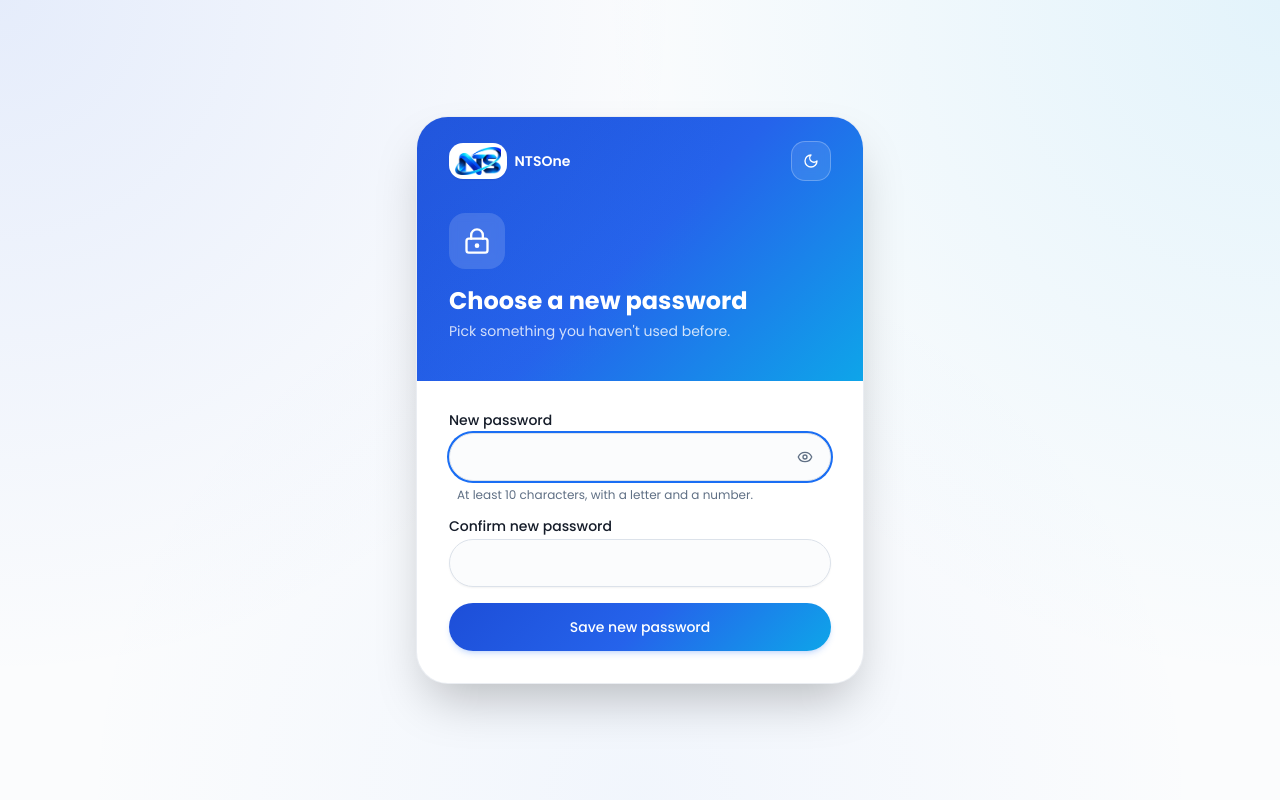
Test: the reset password form › sends a good password and shows the success screen instead of crashing
Type "Sunrise2026x" into the password field labelled "New password".
click(640, 457); type("Sunrise2026x")  # box [449,433,831,481]
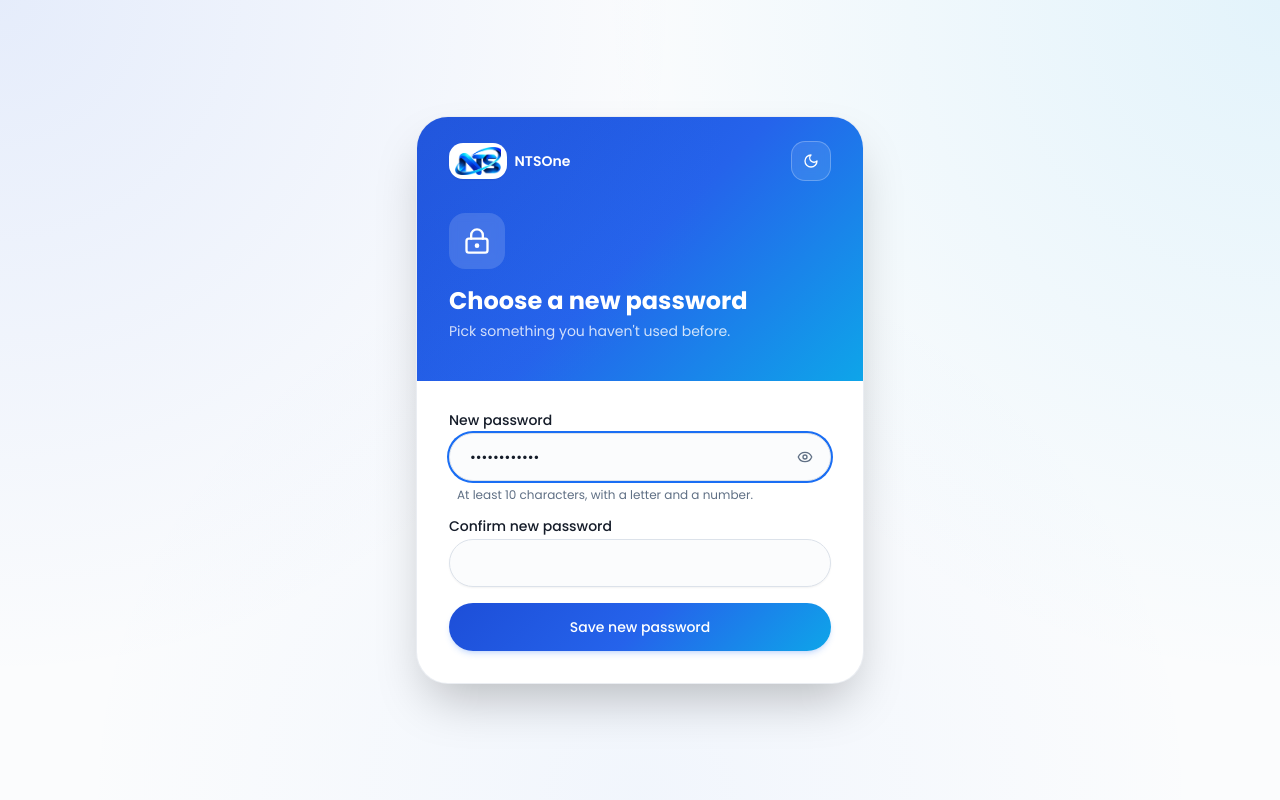
Type "Sunrise2026x" into the password field labelled "Confirm new password".
click(640, 563); type("Sunrise2026x")  # box [449,539,831,587]
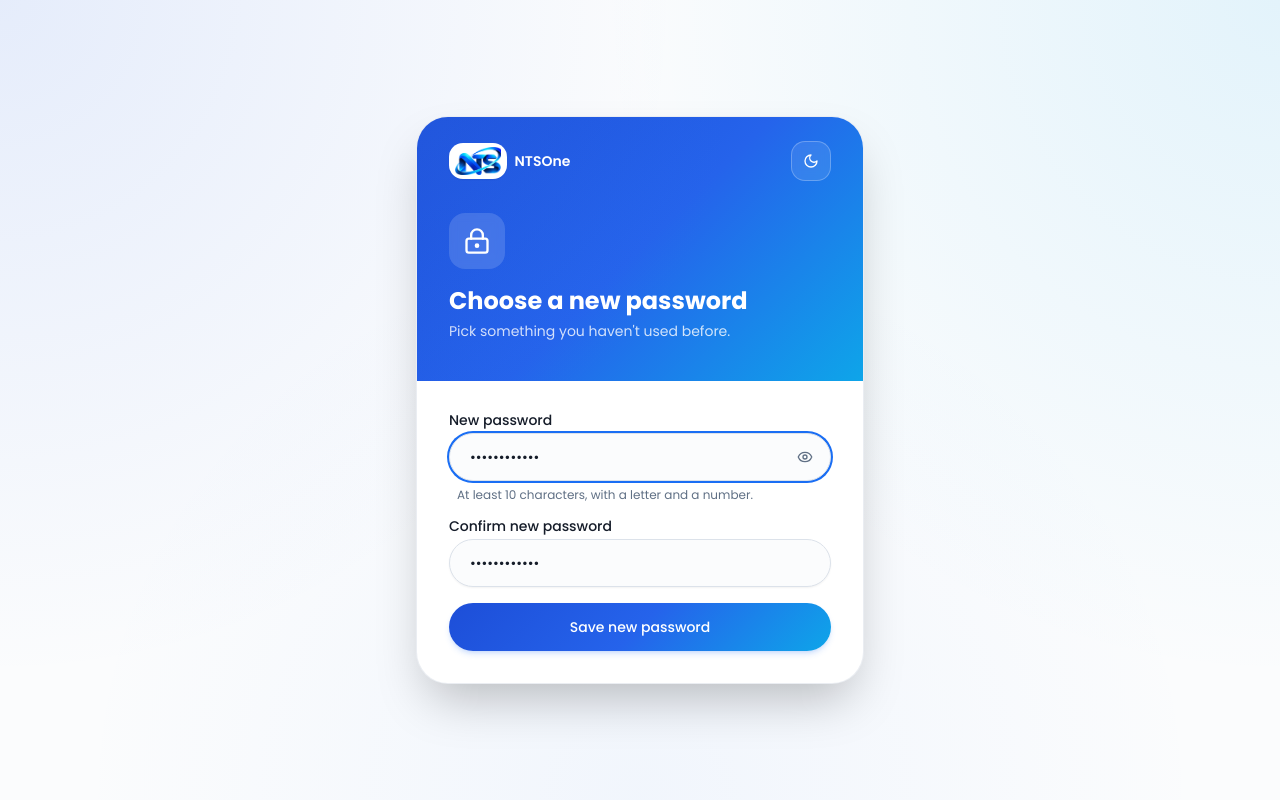
Click the button "Save new password".
click(640, 627)  # box [449,603,831,651]
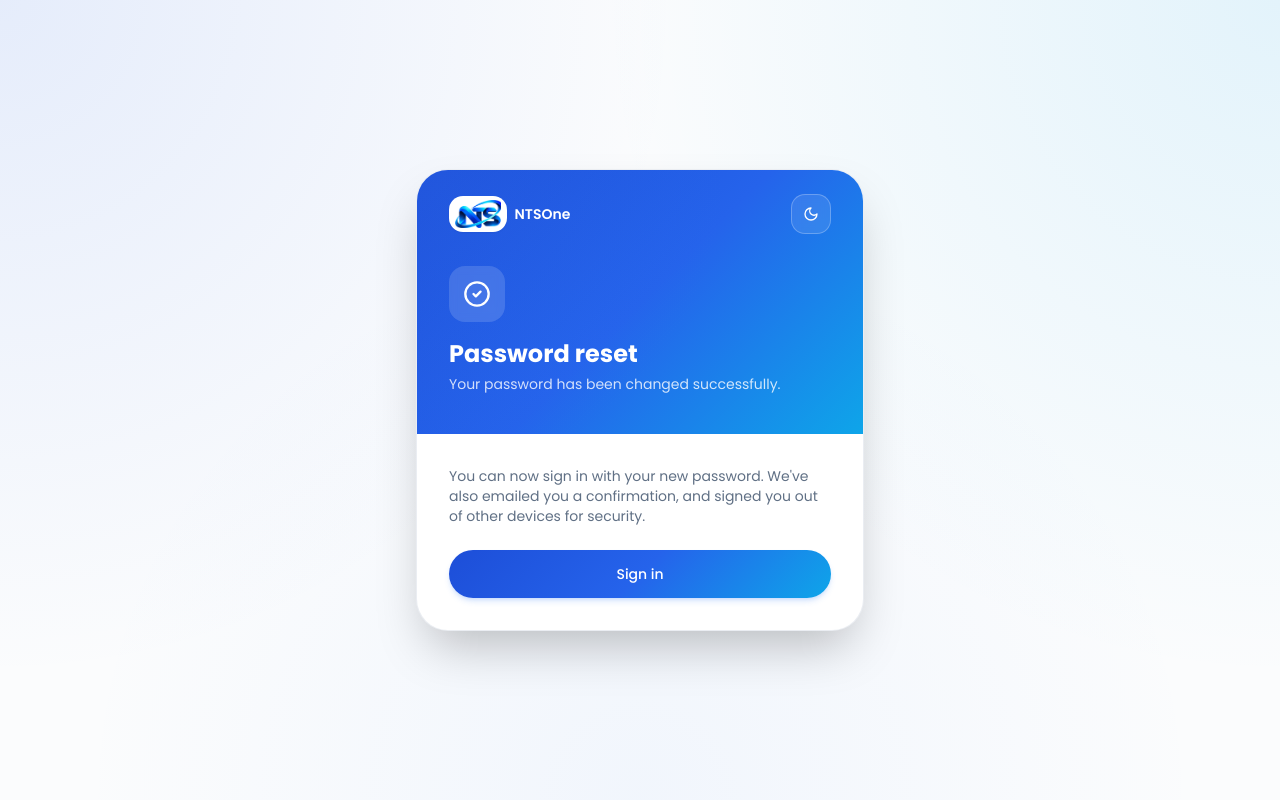
Now the heading "Password reset" is shown, box [449,337,638,370]
